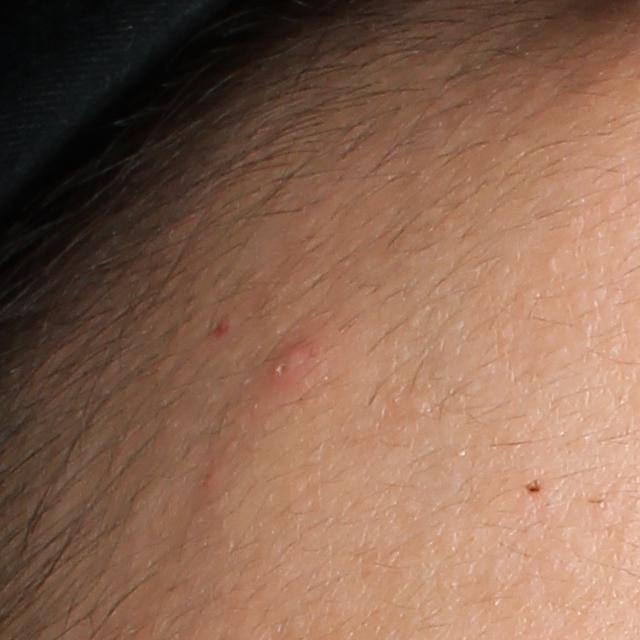papule: (264, 342, 313, 392)
